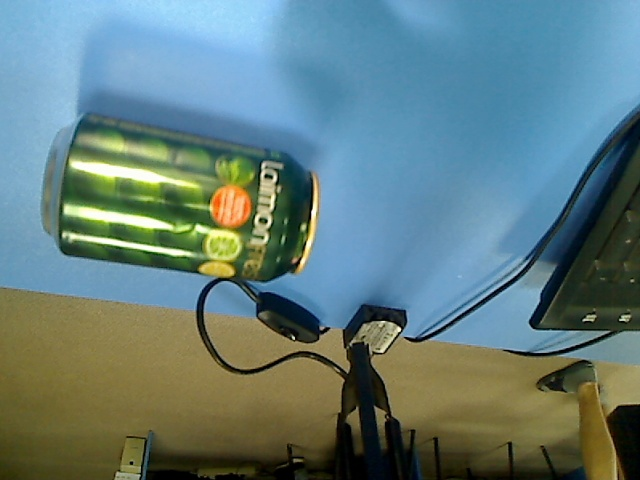can: (38, 113, 321, 291)
